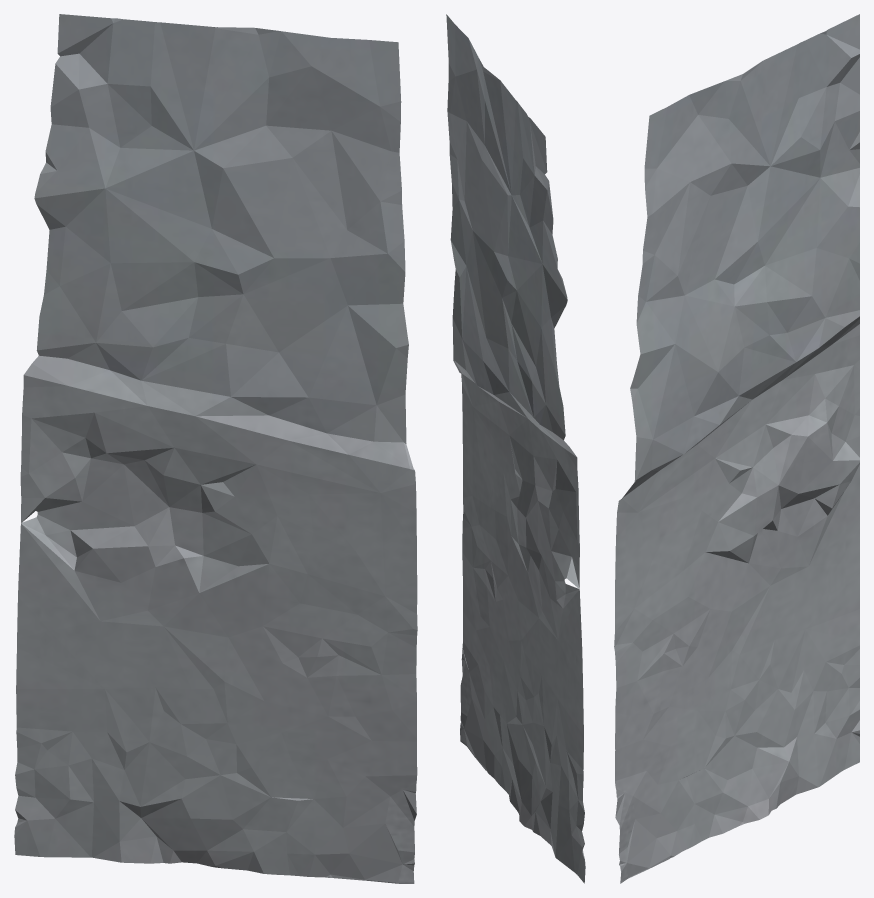
3 renders of one model, left to right at view 1: azimuth 30°, elevation 25°; view 2: azimuth 150°, elevation 25°; view 3: azimuth 270°, elevation 25°, orthographic. The views are drawn at different scales.
Bounding box in the file's own units: 0.2854 × 0.8374 × 0.2428.
Materials: 1 (1 with a texture image).
